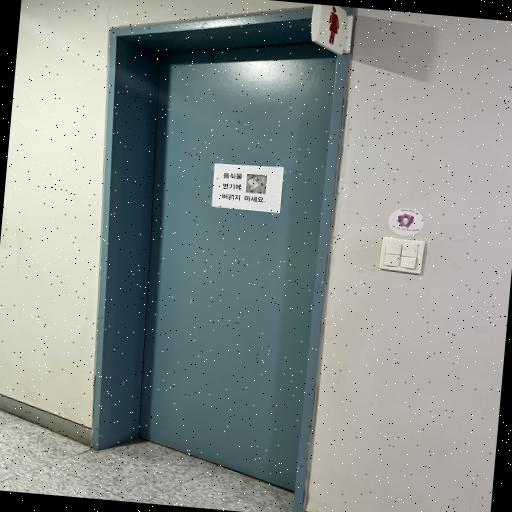door: (91, 8, 354, 512)
